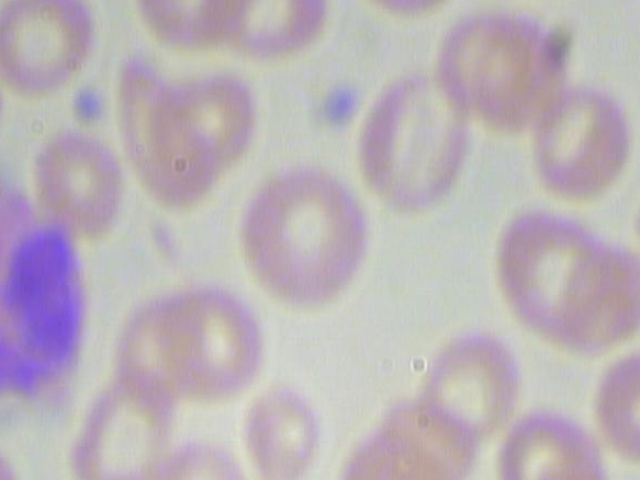Platelets: (314, 78, 368, 131), (67, 87, 112, 127)
